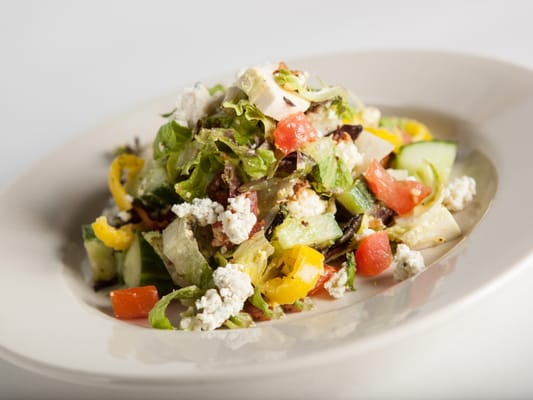pizza: (110, 286, 160, 318)
